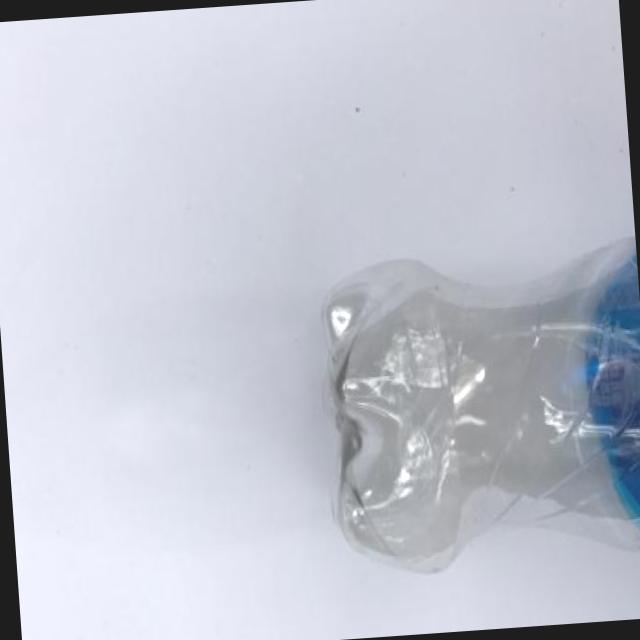Recycle: (314, 234, 640, 579)
